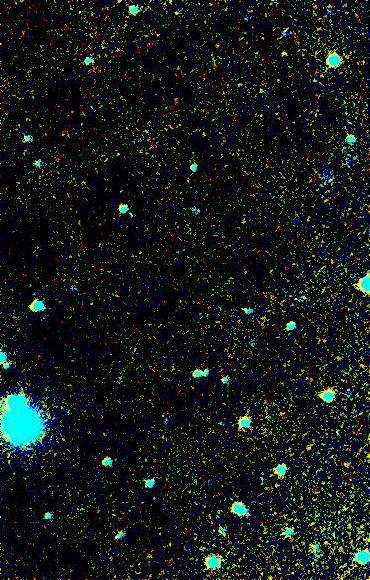star: (273, 39, 303, 69)
